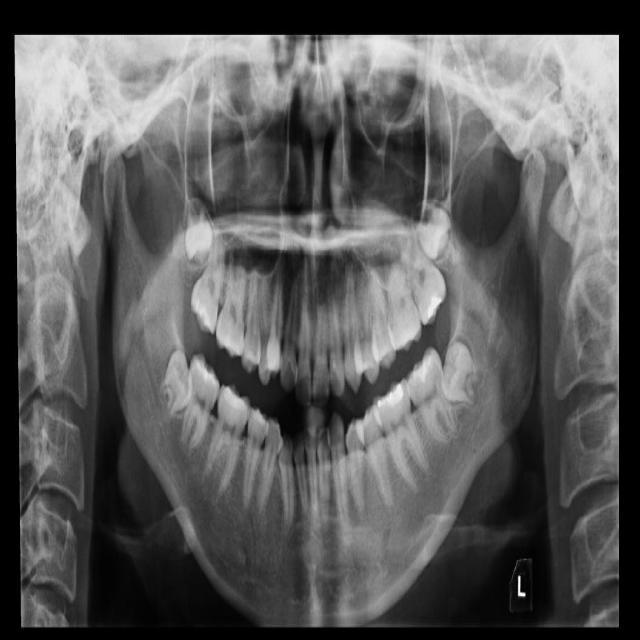3M ESPE Implant: (185, 201, 215, 262)
52: (364, 374, 425, 433), (407, 265, 455, 328)
73: (552, 546, 558, 550)
BioHorizons Implant: (394, 220, 455, 327)
BioLife Implant: (403, 198, 459, 260)
Biomet 3i Implant: (440, 341, 480, 405)
Blue Sky Bio Implant: (399, 345, 459, 449)
Caries: (185, 225, 233, 334)
Implant: (180, 352, 223, 453)
Keystone Dental Implant: (151, 347, 201, 418)
